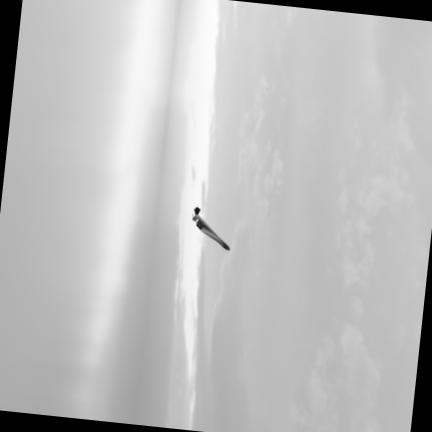Shahed: (192, 209, 229, 250)
